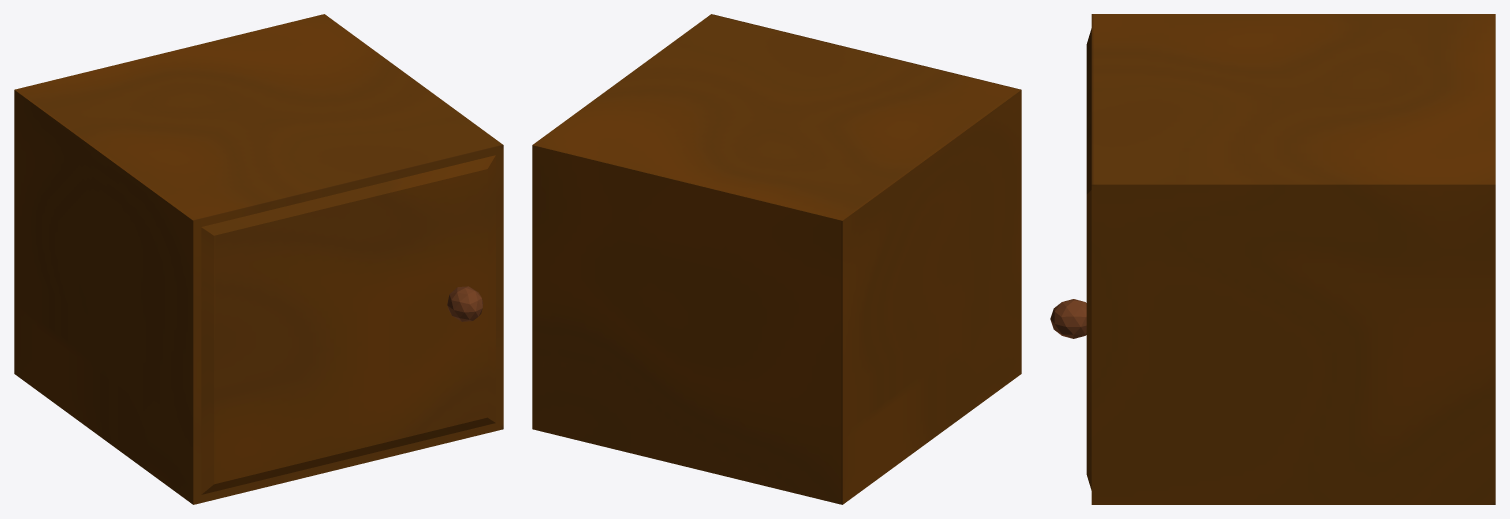
The model's file is BedsideTable.fbx.
The picture shows the model from 3 angles, left to right: view 1: azimuth 30°, elevation 25°; view 2: azimuth 150°, elevation 25°; view 3: azimuth 270°, elevation 25°; orthographic projection. The views are drawn at different scales.
Parts seen in each view (by area): view 1: Cube.025, Cube.026; view 2: Cube.025; view 3: Cube.025, Cube.026.
Part boxes in pixels (x1,y1,x2,y2): Cube.025: [14, 14, 503, 504]; Cube.026: [201, 155, 495, 494]; Cube.025: [532, 14, 1021, 504]; Cube.025: [1091, 14, 1495, 504]; Cube.026: [1050, 28, 1091, 490].
Bounding box in the file's own units: 80 × 70 × 88.22.
